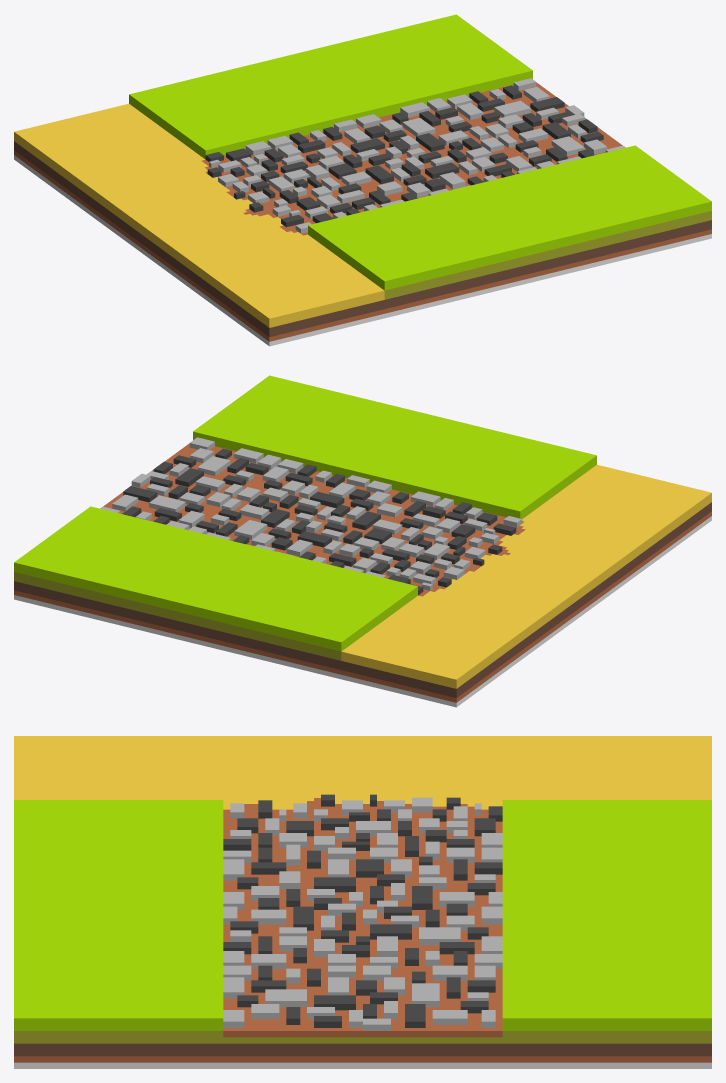
File: Ways-0-way_beach.obj
The picture shows the model from 3 angles, top to bottom: view 1: azimuth 30°, elevation 25°; view 2: azimuth 150°, elevation 25°; view 3: azimuth 270°, elevation 25°; orthographic projection. The views are drawn at different scales.
Visible parts, largest first — view 1: way_beach; view 2: way_beach; view 3: way_beach.
Boxes of the visible parts, <box> form: way_beach: <box>14,14,711,346</box>; way_beach: <box>14,375,711,707</box>; way_beach: <box>14,736,711,1068</box>.
Size of the model in its own units: 10 by 0.8 by 10.
1 material, 1 textured.
